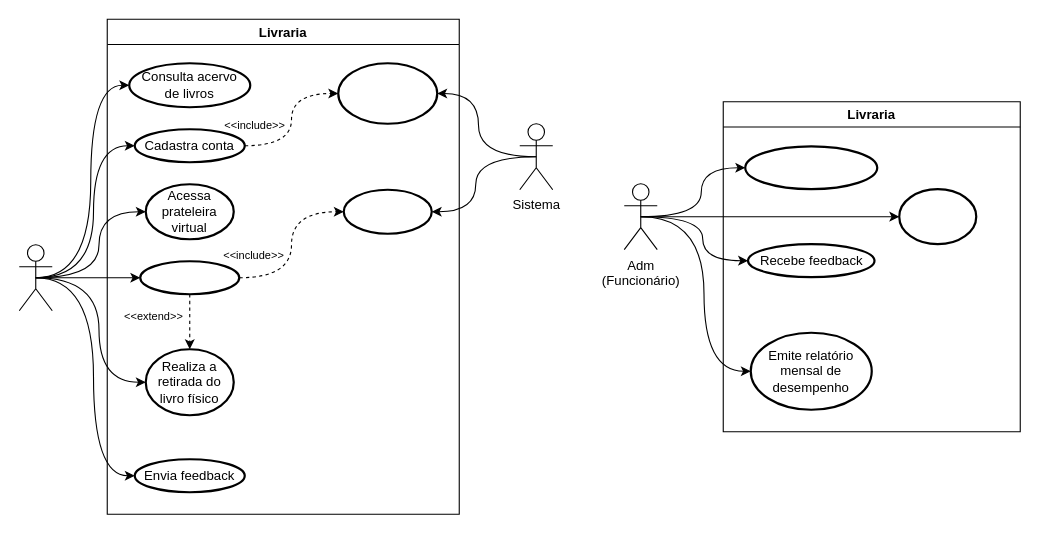
The diagram is 1040 pixels wide and 534 high, and some of its shapes have lost their labels. Each missing label, with the centre of its shape:
"Aluno" goes at point (35, 277).
"Atualiza retirada de livros" goes at point (811, 167).
"Faz pedido" goes at point (189, 277).
"Registra livros" goes at point (937, 216).
"Solicita confirmação de registro" goes at point (387, 93).
"Verificar estoque" goes at point (387, 211).
